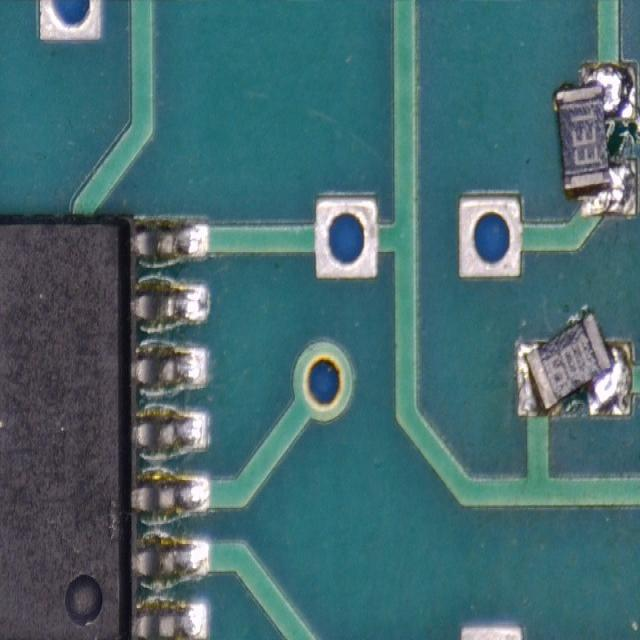Incorrect_installation: (552, 60, 638, 217), (516, 309, 631, 417)
